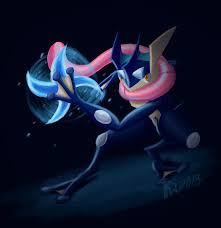greninja: (37, 22, 201, 196)
